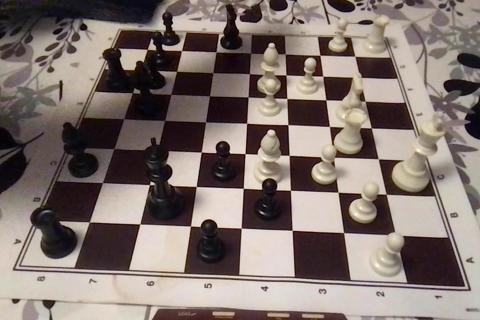xcorner: (136, 218, 149, 231), (197, 146, 210, 159), (86, 216, 98, 229), (289, 224, 302, 236), (99, 177, 111, 190), (193, 180, 205, 193), (287, 184, 300, 196), (335, 185, 347, 198), (383, 187, 396, 199), (110, 143, 122, 156), (241, 148, 254, 160), (330, 151, 343, 163), (202, 116, 214, 129), (284, 119, 297, 131), (326, 120, 338, 133), (128, 88, 141, 100), (205, 90, 218, 102), (244, 91, 256, 104), (283, 92, 295, 105), (361, 95, 374, 107), (172, 66, 185, 78), (143, 44, 155, 57), (177, 45, 189, 58), (187, 220, 199, 232), (238, 222, 250, 234), (341, 226, 353, 238), (393, 228, 405, 240), (146, 179, 158, 191), (240, 182, 252, 194), (154, 145, 166, 157), (286, 149, 298, 161), (375, 152, 387, 164), (120, 114, 132, 126), (161, 115, 173, 127), (243, 118, 255, 130), (368, 122, 380, 134), (167, 89, 179, 101), (322, 94, 334, 106), (136, 65, 148, 77), (209, 67, 221, 79), (245, 68, 257, 80), (282, 69, 294, 81), (319, 70, 331, 82), (356, 71, 368, 83), (212, 46, 224, 58), (246, 47, 258, 59), (281, 48, 293, 60), (316, 49, 328, 61), (351, 50, 363, 62)
